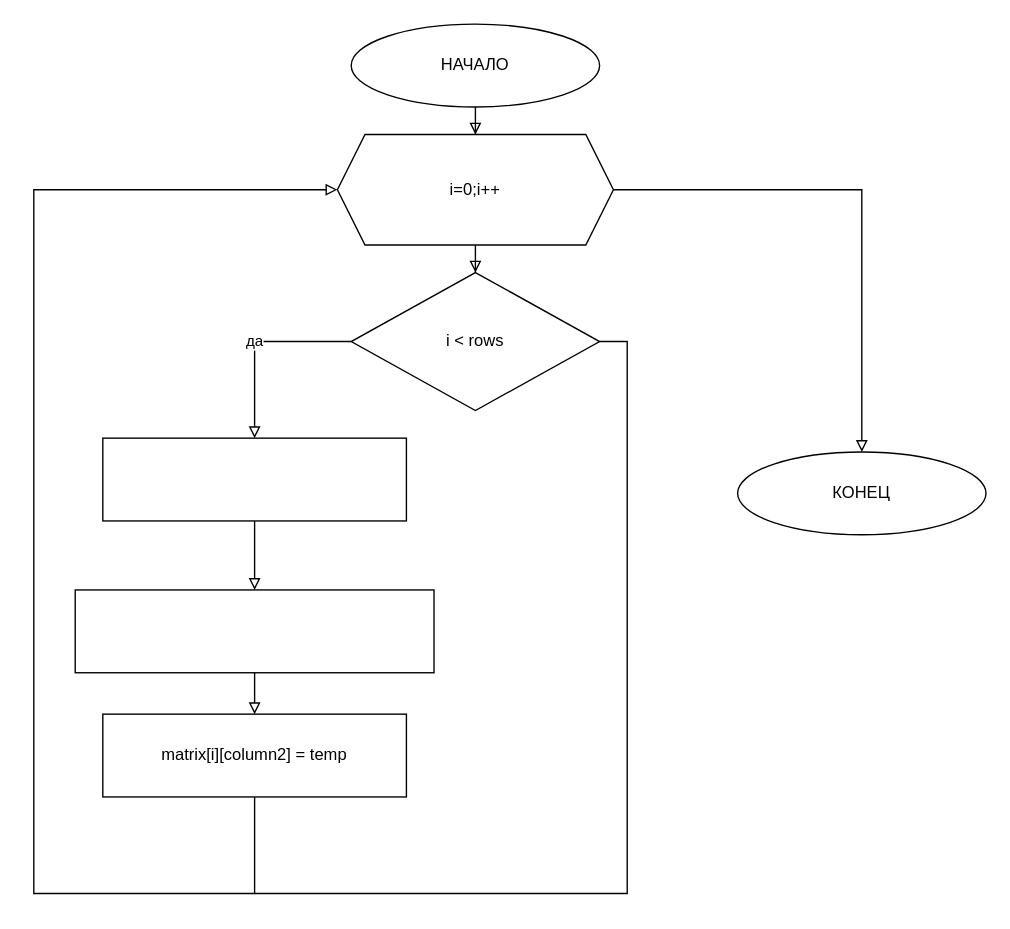
The diagram is 1010 pixels wide and 929 high, and some of its shapes have lost their labels. The box of each missing label's shape, as (x1, y1, x2, y2) in pixels:
matrix[i][column1] = matrix[i][column2]: (74, 589, 434, 673)
temp = matrix[i][column1]: (101, 437, 406, 521)
